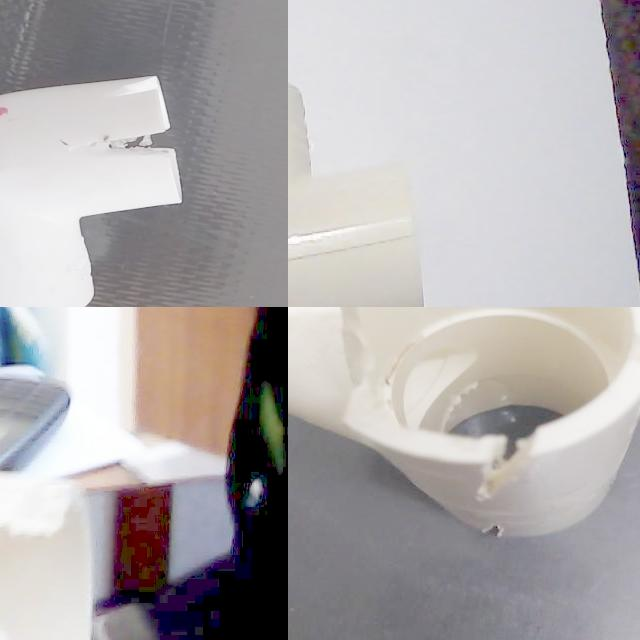Defective: (0, 487, 79, 640), (474, 431, 537, 499), (337, 307, 379, 386), (105, 122, 169, 161), (480, 519, 517, 548)
L Joint: (0, 77, 182, 307)
T Joint: (288, 85, 423, 307)
